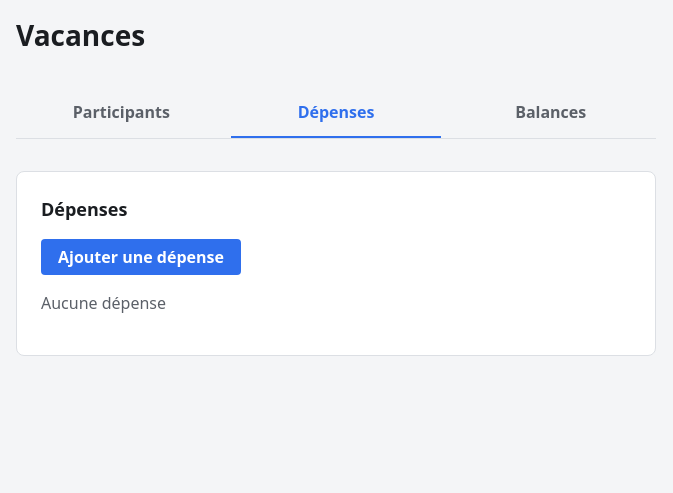
Test: GroupView › ignore le résultat d'un rafraîchissement obsolète si un plus récent a déjà répondu
Check: the heading "Vacances" is shown, box [16,16,145,54]
Click the button "Participants" at (121, 113), box [16,88,227,138]
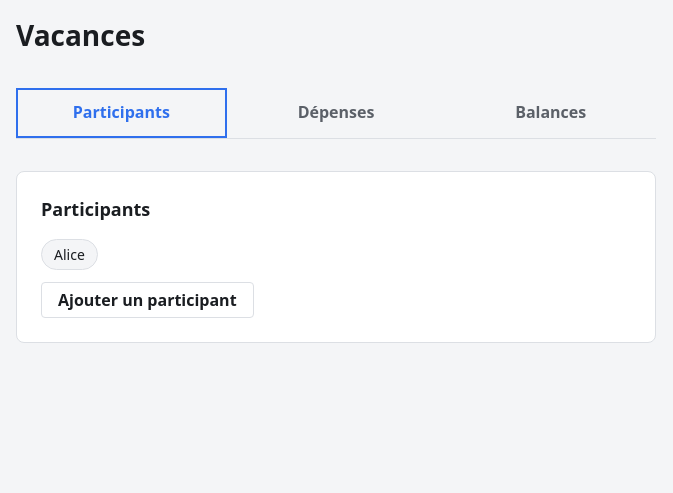
Click the button "Ajouter un participant" at (147, 300), box [41,282,254,318]
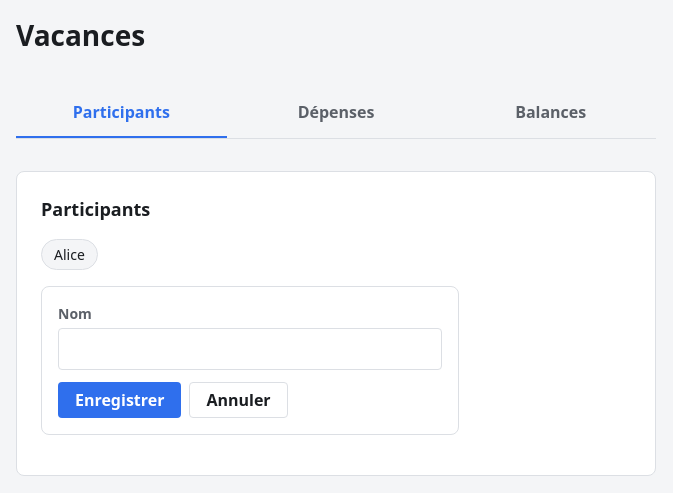
Type "Bob" into the field labelled "Nom" at (250, 349), box [58,328,442,370]
Click the button "Enregistrer" at (120, 400), box [58,382,182,418]
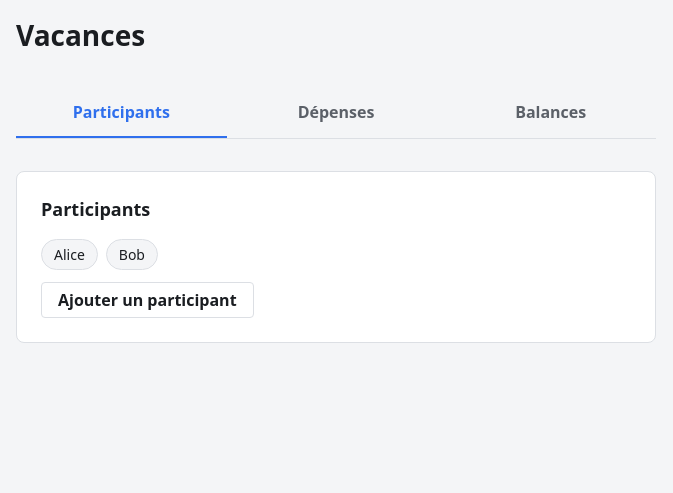
Check: the list item "Bob" is shown, box [106,239,158,270]
Click the button "Ajouter un participant" at (147, 300), box [41,282,254,318]
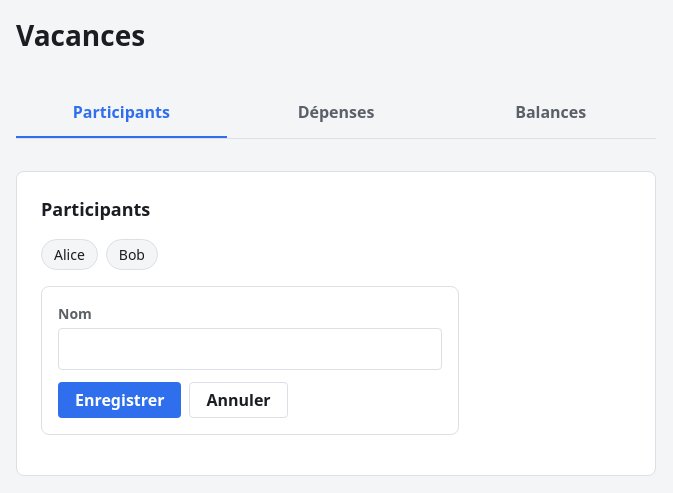
Type "Camille" into the field labelled "Nom" at (250, 349), box [58,328,442,370]
Click the button "Enregistrer" at (120, 400), box [58,382,182,418]
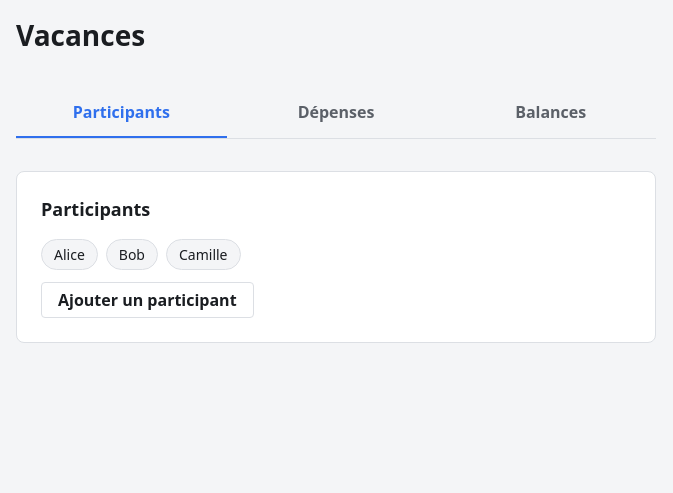
Check: the list item "Camille" is shown, box [166,239,240,270]
Click the button "Balances" at (551, 113), box [445,88,656,138]
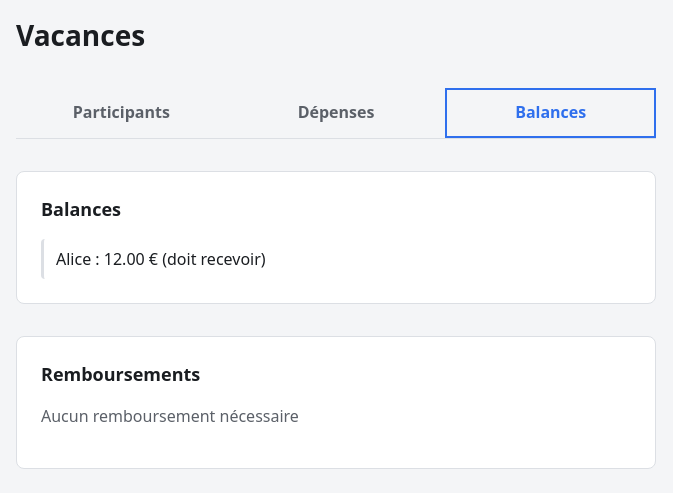
Check: the list item "Alice : 12.00 € (doit recevoir)" is shown, box [41,239,631,279]
